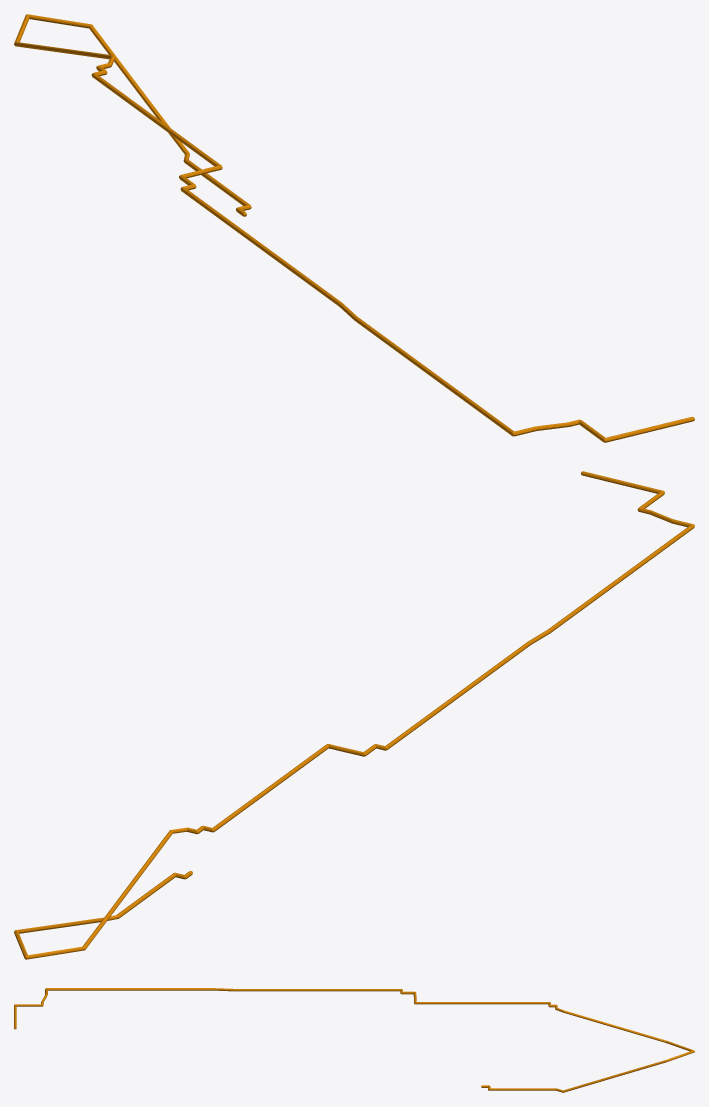
The picture shows the model from 3 angles, top to bottom: view 1: azimuth 30°, elevation 25°; view 2: azimuth 150°, elevation 25°; view 3: azimuth 270°, elevation 25°; orthographic projection. The views are drawn at different scales.
Bounding box in the file's own units: 749 × 520 × 5070.
